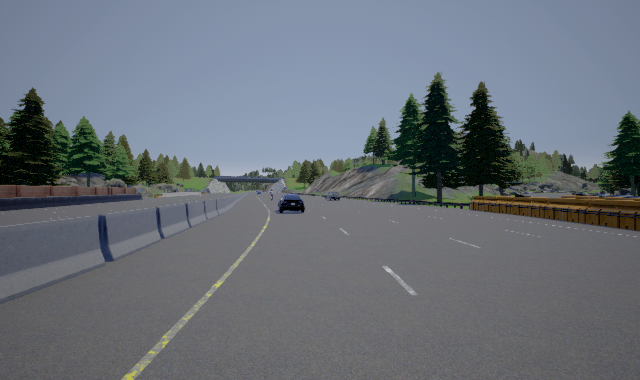bike: (267, 188, 275, 200)
vehicle: (278, 194, 305, 213), (325, 190, 343, 201)
